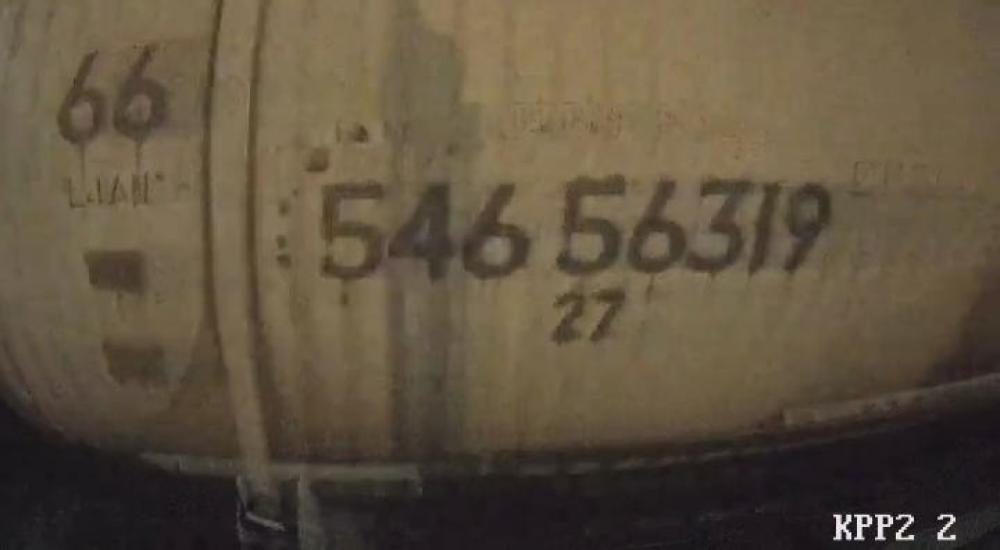Wagon-number: (316, 176, 837, 284)
